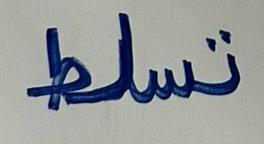lam: (92, 8, 138, 111)
seen: (140, 43, 197, 117)
tah: (20, 19, 91, 119)
teh: (198, 22, 249, 110)
